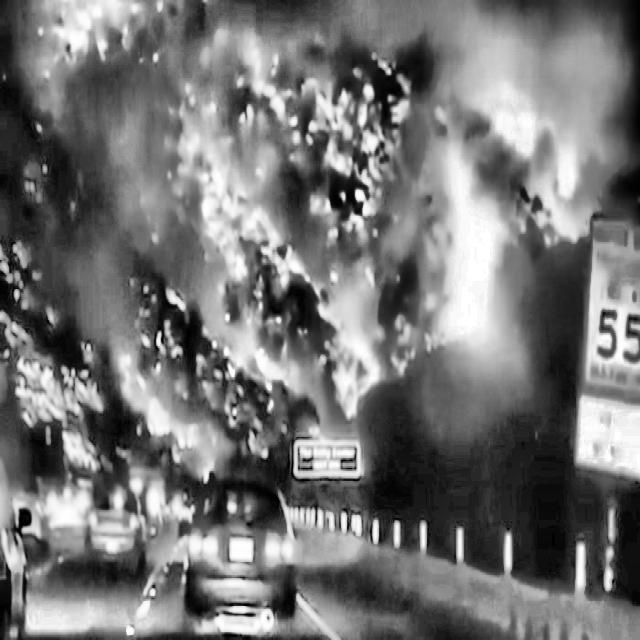fire: (0, 5, 602, 640), (402, 106, 528, 398), (545, 114, 589, 275)
